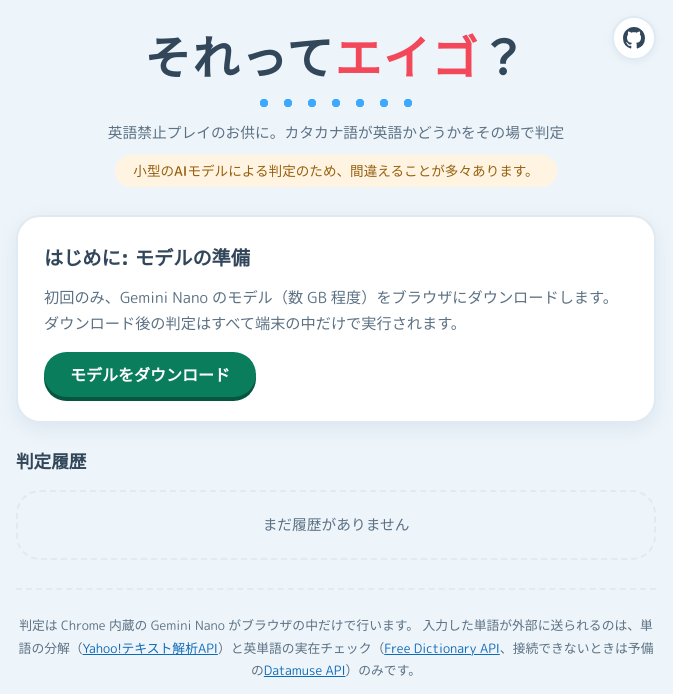
Test case: App › モデル未ダウンロードならダウンロードボタンを表示し、完了後にフォームを表示する
This screenshot has width=673, height=694.
Click the button "モデルをダウンロード" at (150, 374), box [44,352,256,397]
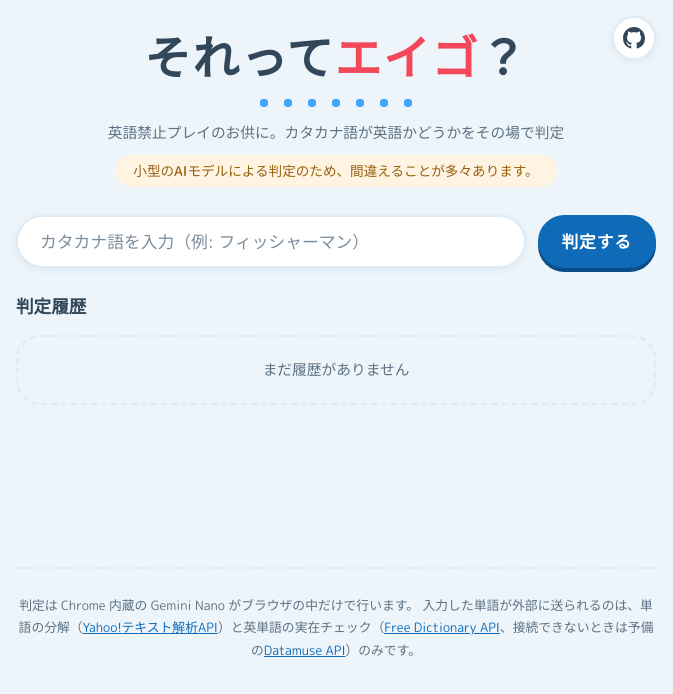
expect the field is shown: met, box [16,215,526,268]
